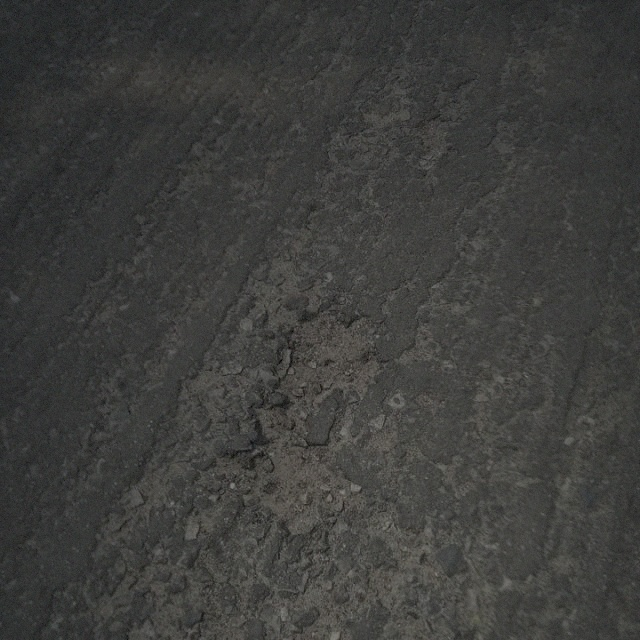pothole: (228, 308, 374, 534)
